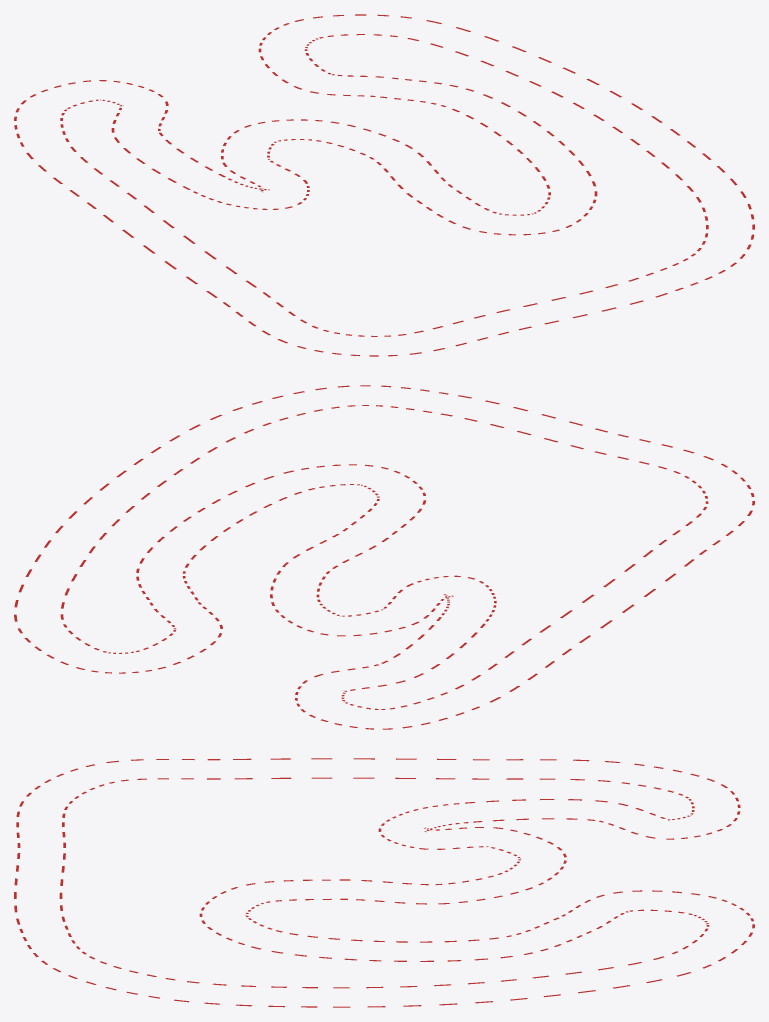
Rendered from SM_DK_02_Track_surface_curbs_and_runoff_red.fbx.
3 views of the same model, one above another, from view 1: azimuth 30°, elevation 25°; view 2: azimuth 150°, elevation 25°; view 3: azimuth 270°, elevation 25° (orthographic).
Visible parts, largest first — view 1: 02 Track surface curbs and runoff | red; view 2: 02 Track surface curbs and runoff | red; view 3: 02 Track surface curbs and runoff | red.
Part boxes in pixels (x1=…): 02 Track surface curbs and runoff | red: x1=14, y1=14, x2=754, y2=356; 02 Track surface curbs and runoff | red: x1=14, y1=385, x2=754, y2=729; 02 Track surface curbs and runoff | red: x1=14, y1=758, x2=754, y2=1007.
Bounding box in the file's own units: 17811 × 22368 × 0.
